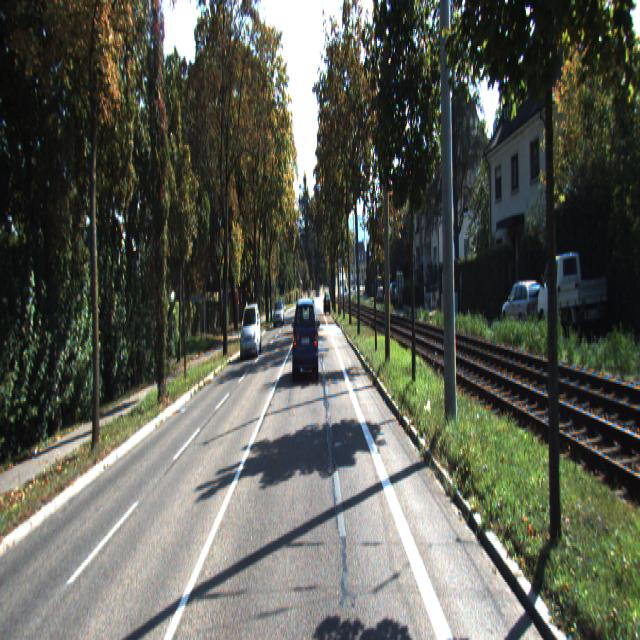Car: (536, 248, 607, 334), (292, 295, 320, 384), (502, 278, 546, 330), (240, 303, 262, 361), (273, 298, 285, 328)
